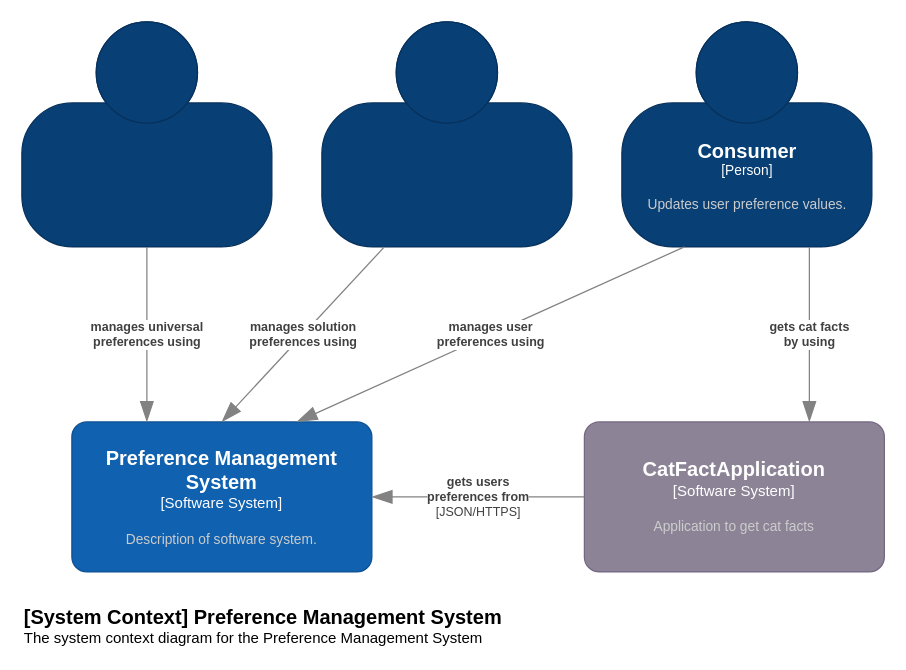
This 906x670 diagram has some shape labels left out. The shapes that lost their labels are listed below. From the top down, each one's centre as x and y in pixels, then its label:
point (146, 134): Administrator [Person] Maintains universal preferences.
point (446, 134): Solution Manager [Person] Maintains and assigns solution preferences.
